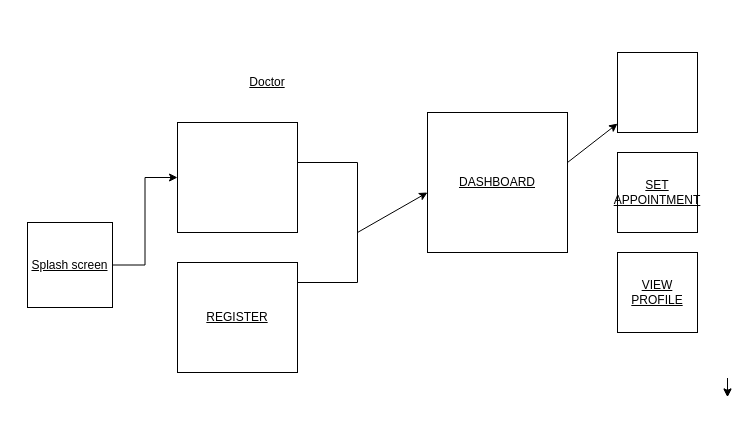
Image size: 753x424. Some labels were removed from this diagram. The shapes that lost their labels are listed below. From the top down, each one's centre as x and y in pixels, then its label:
the point at 657,92: SEND FILES TO PATIENTS
the point at 237,177: LOGIN
